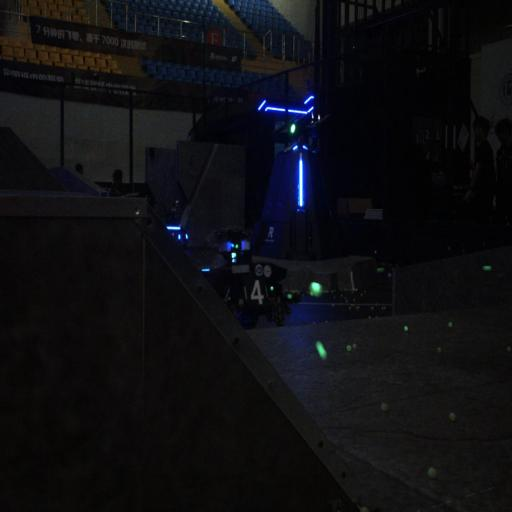target: (238, 268, 276, 314)
